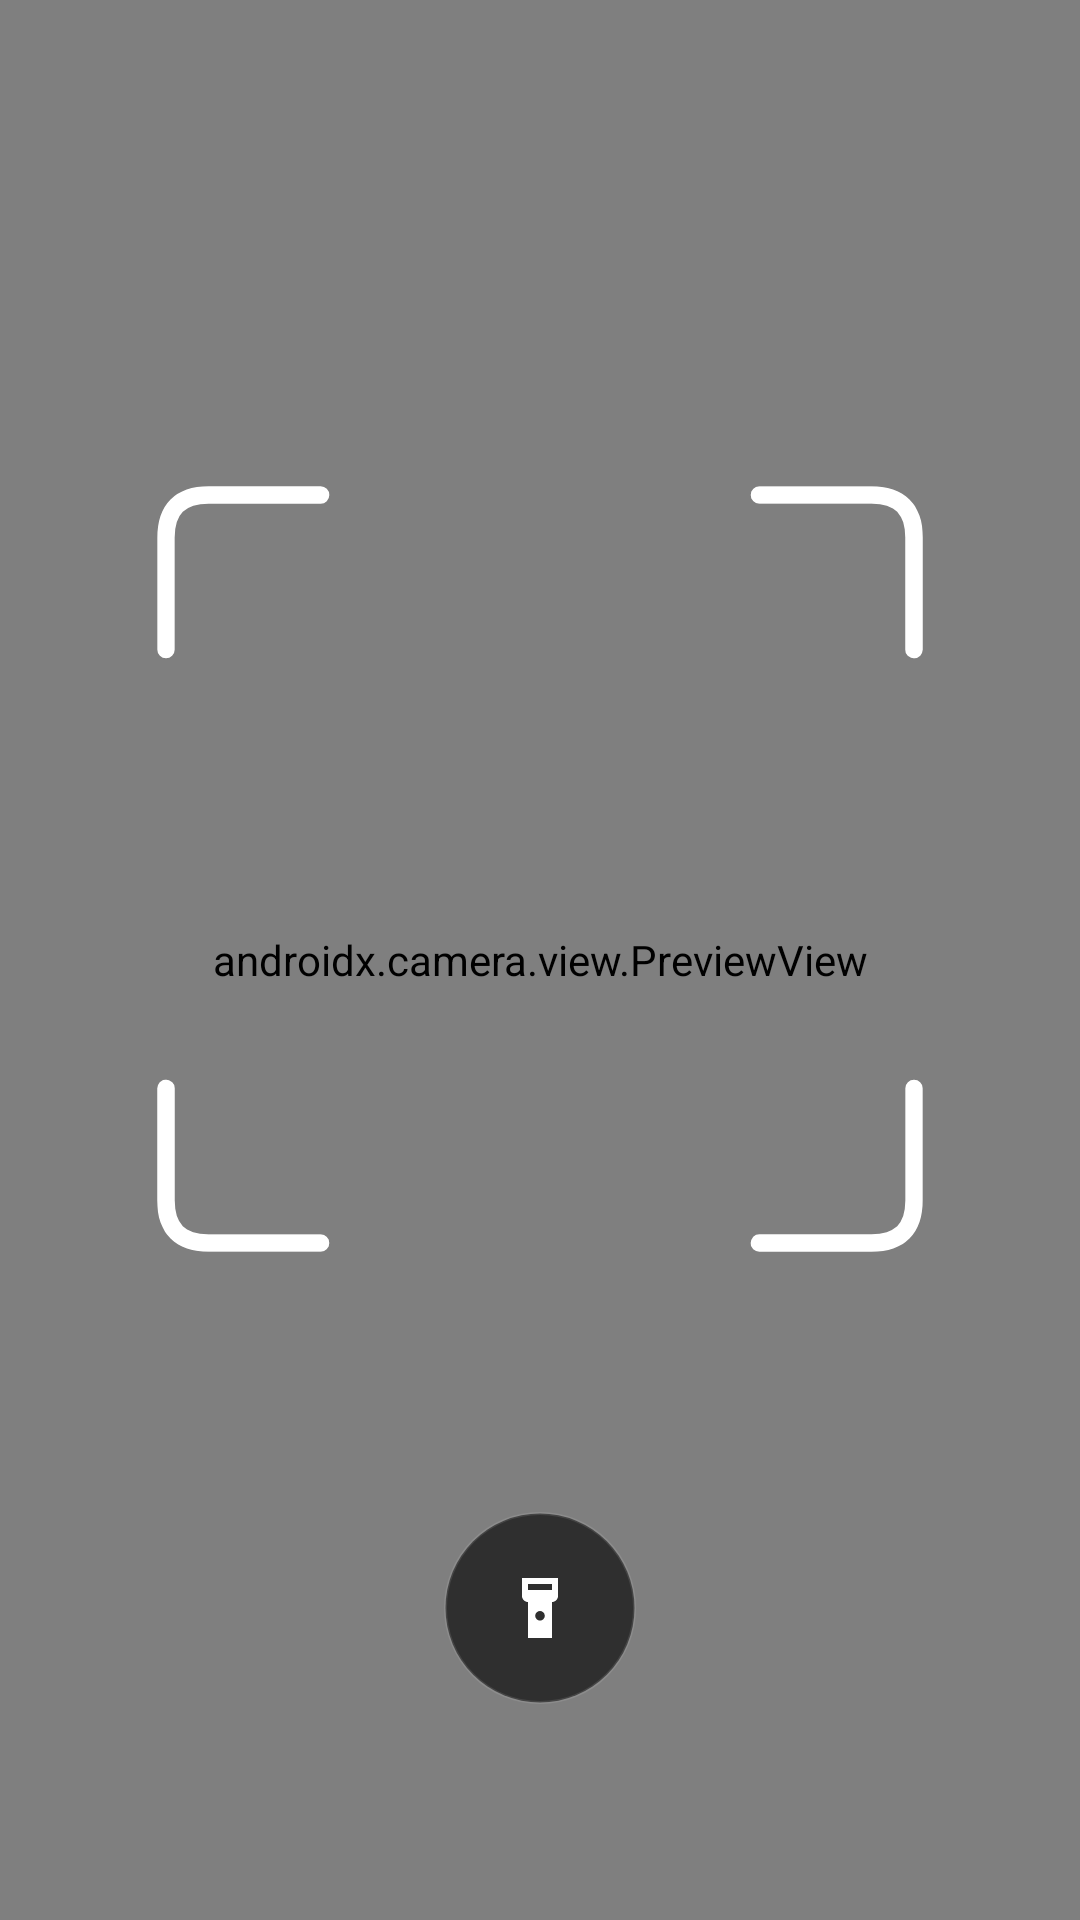

Where to tap for icons on this 1080 × 1920 app screen, as point (x, y):
Torch: point (540, 1608)
